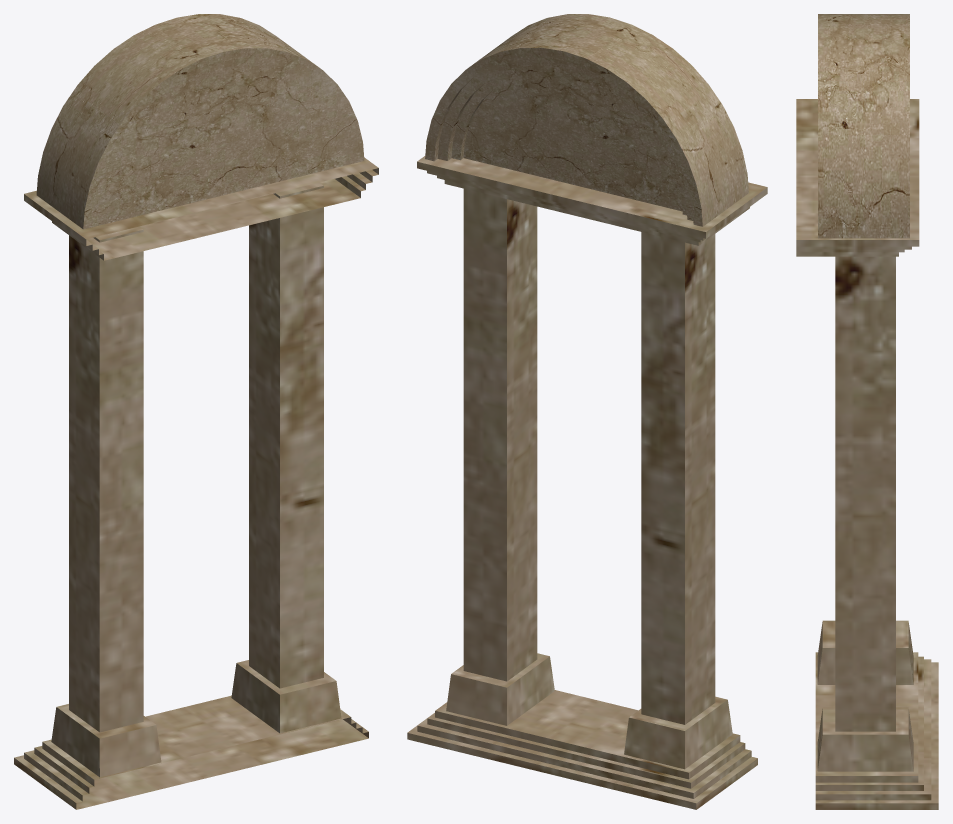
The model's file is window34.fbx.
3 views of the same model, side by side, from view 1: azimuth 30°, elevation 25°; view 2: azimuth 150°, elevation 25°; view 3: azimuth 270°, elevation 25° (orthographic).
Parts seen in each view (by area): view 1: stone_column_332, stone_column_331, stone_column_330, stone_column_329, stone_column_328; view 2: stone_column_332, stone_column_331, stone_column_330, stone_column_329, stone_column_328; view 3: stone_column_330, stone_column_332, stone_column_329, stone_column_328, stone_column_331.
Part boxes in pixels (x1,y1,x2,y2): stone_column_332: (36,14,364,229); stone_column_331: (51,226,161,777); stone_column_330: (231,182,341,733); stone_column_329: (14,695,368,809); stone_column_328: (24,157,378,260); stone_column_332: (425,14,748,226); stone_column_331: (624,232,732,769); stone_column_330: (446,188,554,725); stone_column_329: (407,690,757,809); stone_column_328: (417,156,767,245); stone_column_330: (817,256,913,771); stone_column_332: (818,14,909,238); stone_column_329: (815,652,938,809); stone_column_328: (796,99,919,256); stone_column_331: (817,620,913,684).
Bounding box in the file's own units: 34.02 × 80.07 × 14.52.
